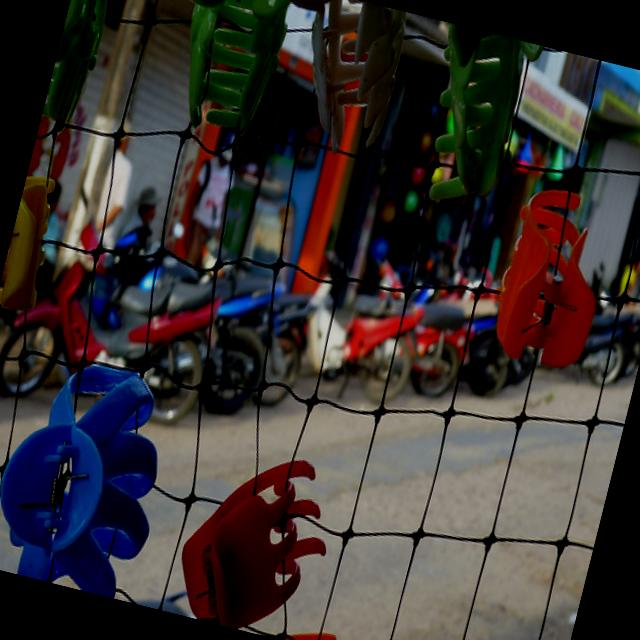Vehicle: (0, 177, 243, 439), (84, 240, 317, 410), (114, 251, 298, 422), (290, 245, 440, 408), (340, 242, 486, 406), (419, 284, 526, 402), (574, 300, 638, 397)
